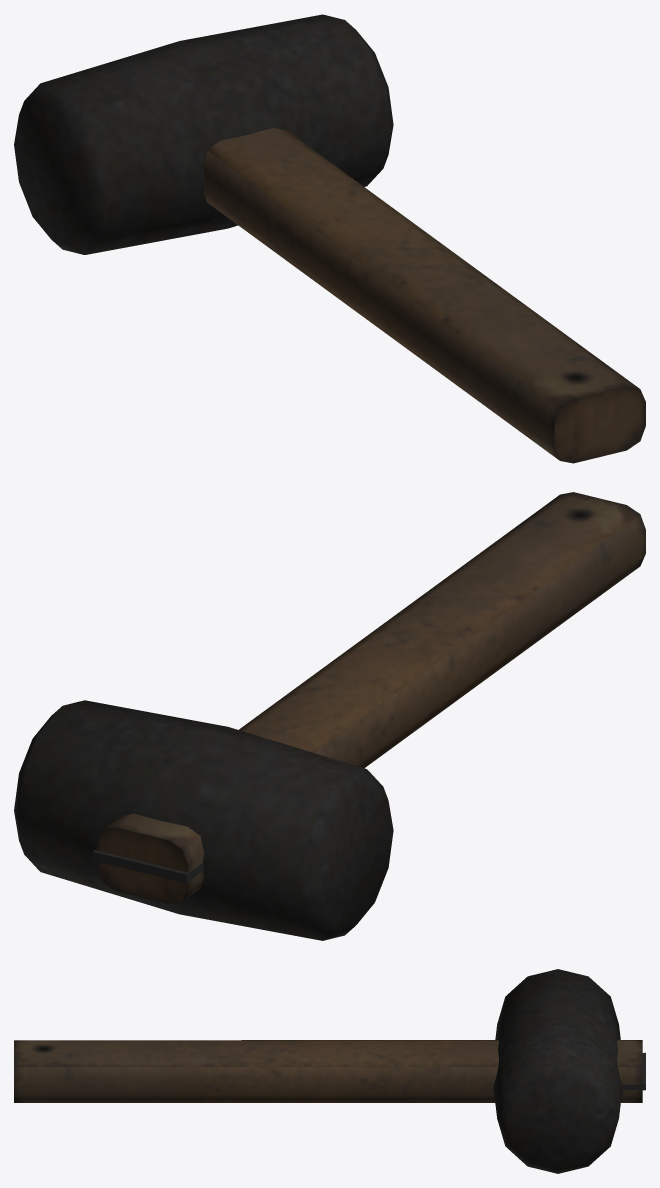
The model's file is rubber_hammer_mx_1.obj.
3 views of the same model, one above another, from view 1: azimuth 30°, elevation 25°; view 2: azimuth 150°, elevation 25°; view 3: azimuth 270°, elevation 25° (orthographic). The views are drawn at different scales.
Parts seen in each view (by area): view 1: rubber_hammer_mx_1; view 2: rubber_hammer_mx_1; view 3: rubber_hammer_mx_1.
Part boxes in pixels (x1=…): rubber_hammer_mx_1: x1=14, y1=14, x2=645, y2=463; rubber_hammer_mx_1: x1=14, y1=492, x2=645, y2=940; rubber_hammer_mx_1: x1=14, y1=969, x2=645, y2=1173.
Size of the model in its own units: 0.2 by 0.11 by 0.5227.
